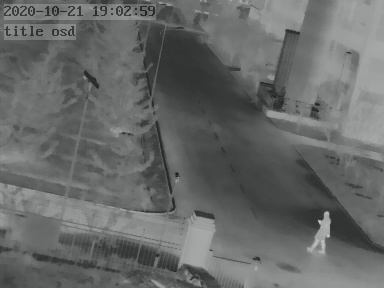person: (310, 208, 330, 255)
